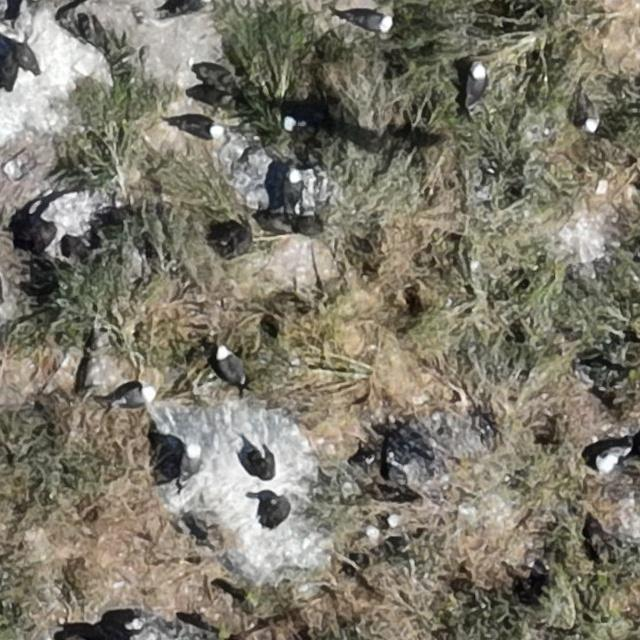umineko: (176, 442, 205, 486), (577, 91, 598, 134), (259, 112, 295, 137), (178, 119, 220, 140), (347, 13, 392, 32), (218, 351, 243, 385), (114, 387, 152, 407), (467, 66, 486, 104), (599, 446, 626, 471), (286, 172, 302, 209)
